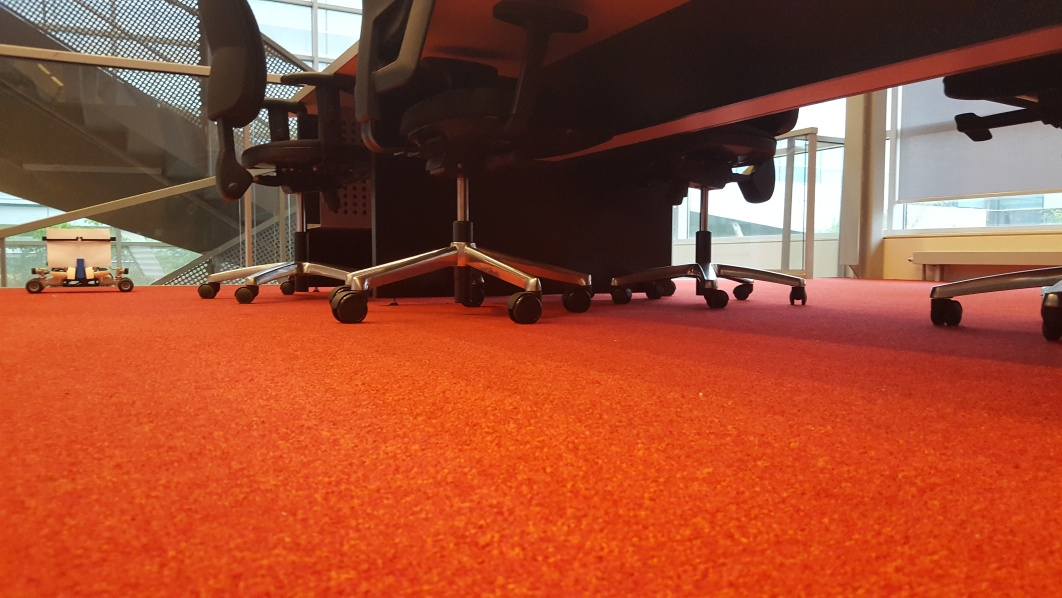car: (25, 228, 138, 296)
